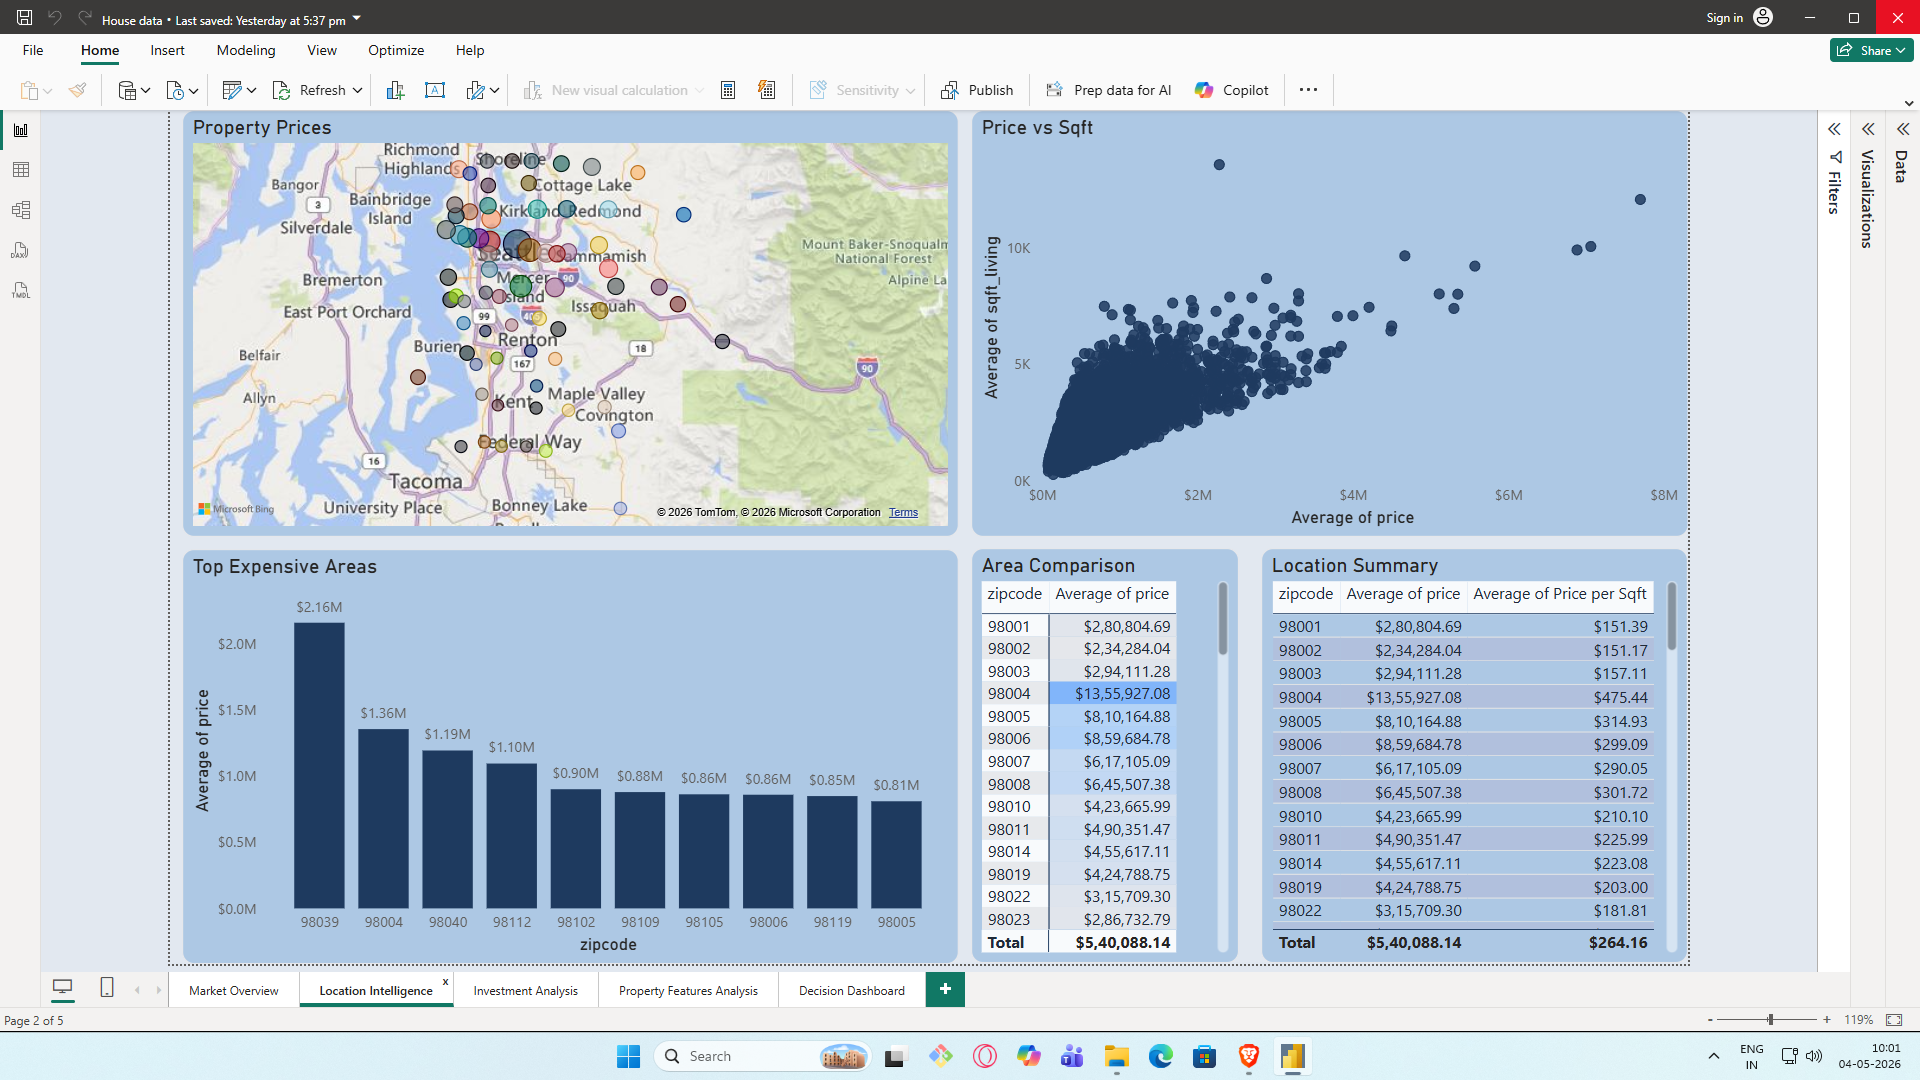

What the dashboard file says about the page in this screenshot:
{"tool":"powerbi","page":{"name":"Location Intelligence","canvas":[1280,720],"ordinal":1},"visuals":[{"type":"map","title":"Property Prices","fields":{"Category":["Data.zipcode"],"Size":["Avg(Data.price)"],"Y":["Avg(Data.lat)"],"X":["Avg(Data.long)"],"Series":["Data.zipcode"]},"box":[9.7,0,654.6,359.9],"z":0},{"type":"clusteredColumnChart","title":"Top Expensive Areas","fields":{"Category":["Data.zipcode"],"Y":["Avg(Data.price)"]},"box":[10,370,655,350],"z":1000},{"type":"scatterChart","title":"Price vs Sqft","fields":{"X":["Avg(Data.price)"],"Y":["Avg(Data.sqft_living)"],"Category":["Data.id"]},"box":[675,0,605,360],"z":2000},{"type":"pivotTable","title":"Area Comparison","fields":{"Rows":["Data.zipcode"],"Values":["Avg(Data.price)"]},"box":[675,369.6,225.7,350.2],"z":3000},{"type":"tableEx","title":"Location Summary","fields":{"Values":["Data.zipcode","Avg(Data.price)","Avg(Data.Price per Sqft)"]},"box":[920.1,369.6,359.9,350.2],"z":4000}]}

Visuals, with their boxes on the page's 1280x720 design canvas (x1, y1, x2, y2). These are canvas units, not pixel positions in the 1920x1080 screenshot, which may show the page scaled, cropped or inside an application window:
"Property Prices" map: x1=10 y1=0 x2=664 y2=360
"Top Expensive Areas" clusteredColumnChart: x1=10 y1=370 x2=665 y2=720
"Price vs Sqft" scatterChart: x1=675 y1=0 x2=1280 y2=360
"Area Comparison" pivotTable: x1=675 y1=370 x2=901 y2=720
"Location Summary" tableEx: x1=920 y1=370 x2=1280 y2=720
